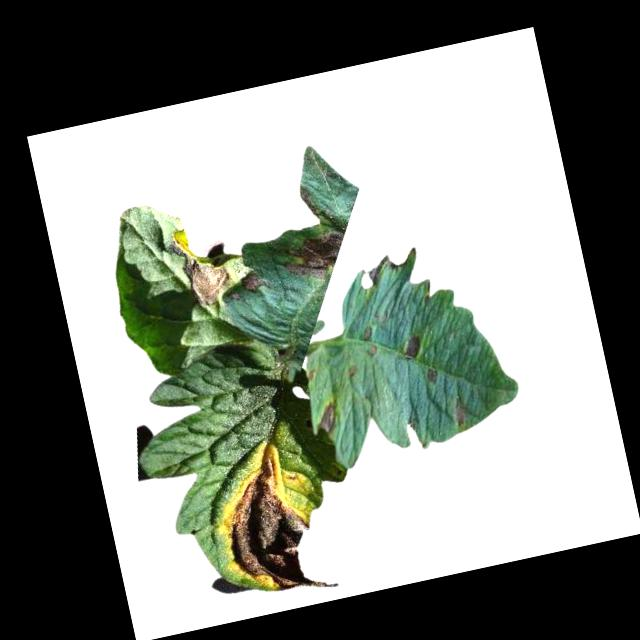Early_blight: (211, 434, 342, 610), (270, 176, 358, 291), (169, 216, 237, 314), (311, 399, 343, 437), (240, 267, 269, 297), (450, 395, 471, 428), (401, 335, 426, 362), (422, 365, 444, 387), (359, 329, 374, 344)
